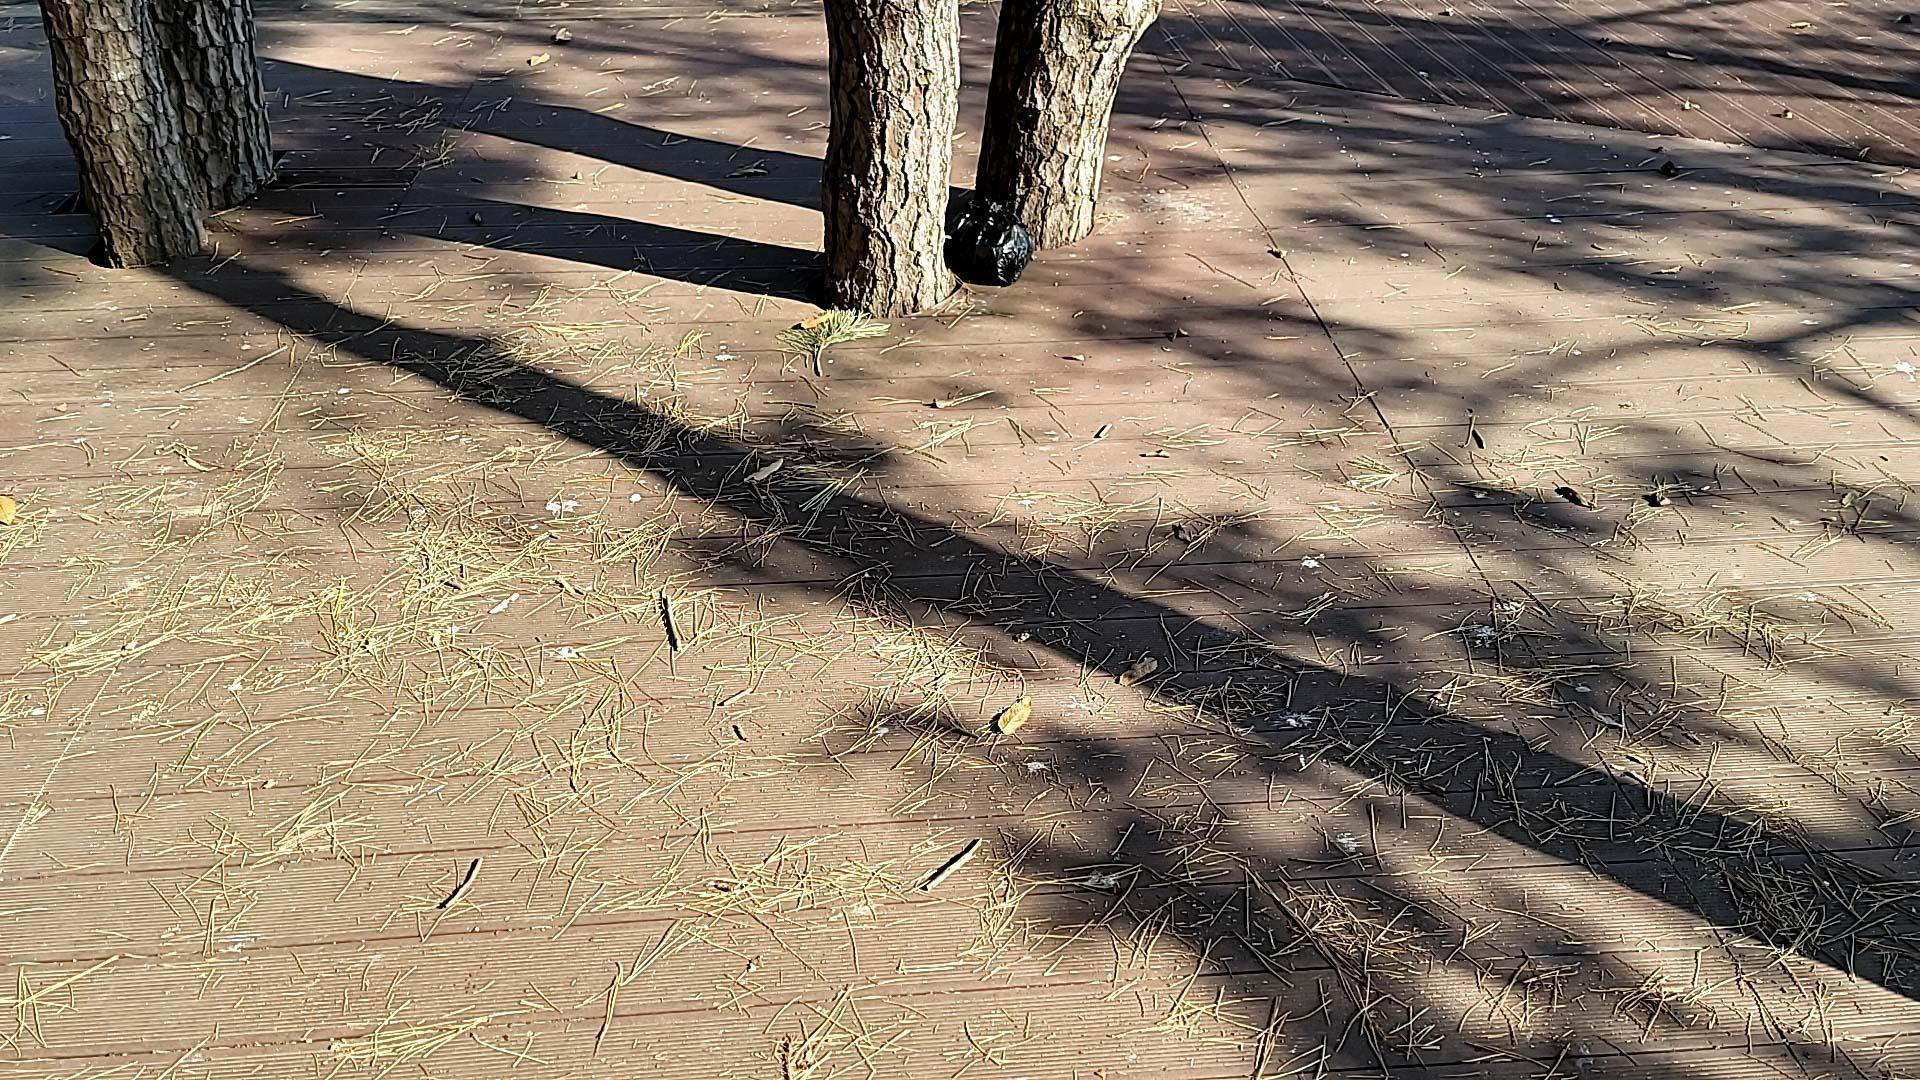black_bag: (944, 196, 1039, 289)
